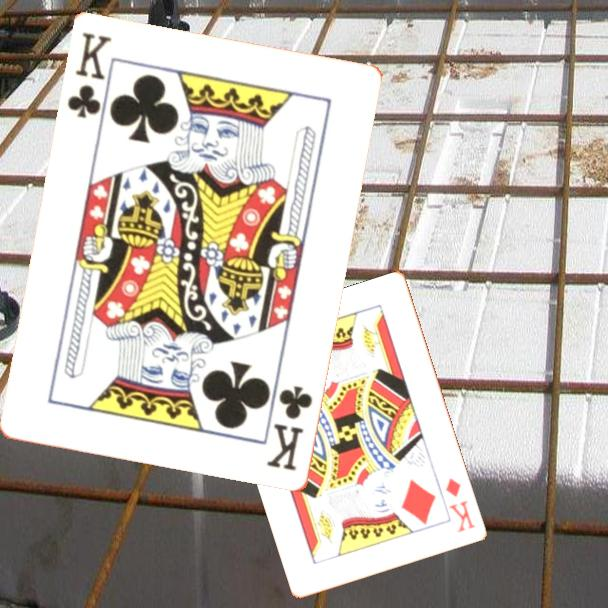c13: (263, 382, 316, 475), (64, 29, 115, 122)
d13: (442, 474, 479, 536)
